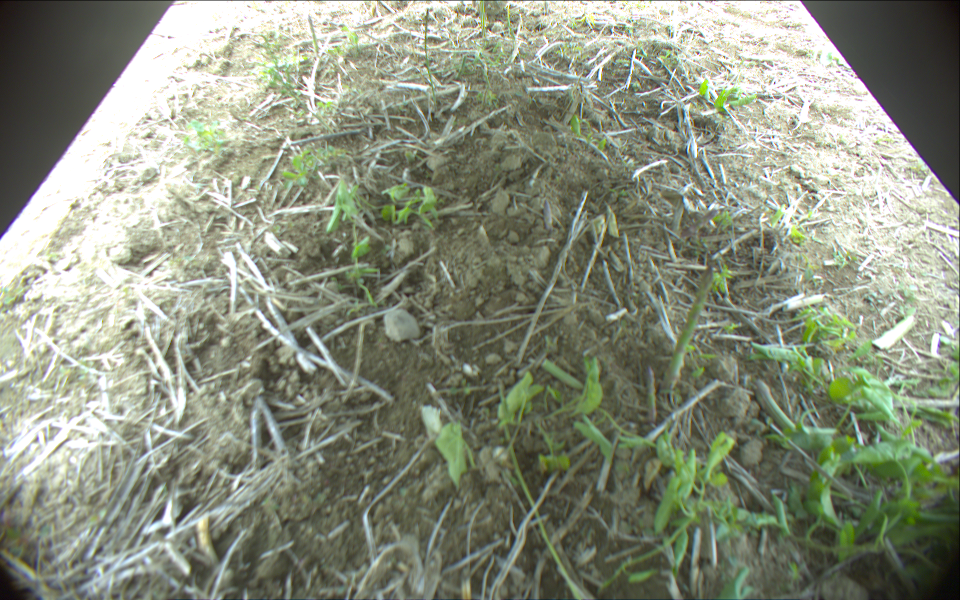aspa: (666, 262, 714, 395), (757, 379, 799, 434), (645, 365, 658, 421), (424, 8, 431, 84), (542, 198, 555, 234), (307, 16, 319, 53)
